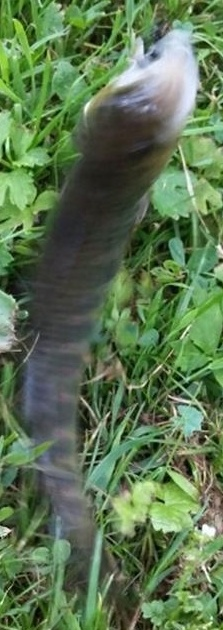Salmo trutta subsp. fario: (20, 20, 203, 610)
